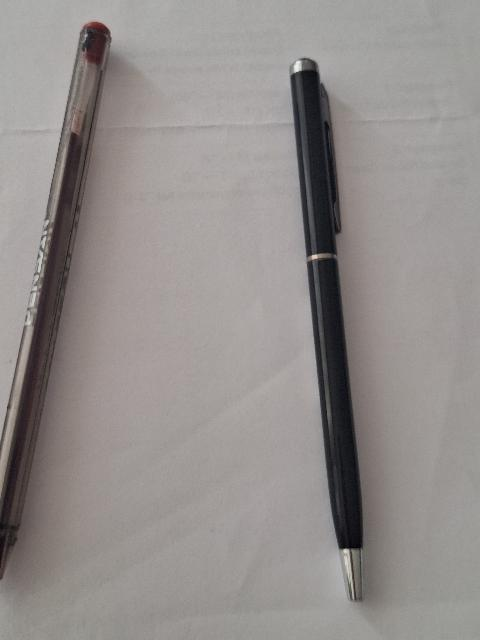writing_tool: (0, 22, 113, 583), (284, 55, 364, 604)
